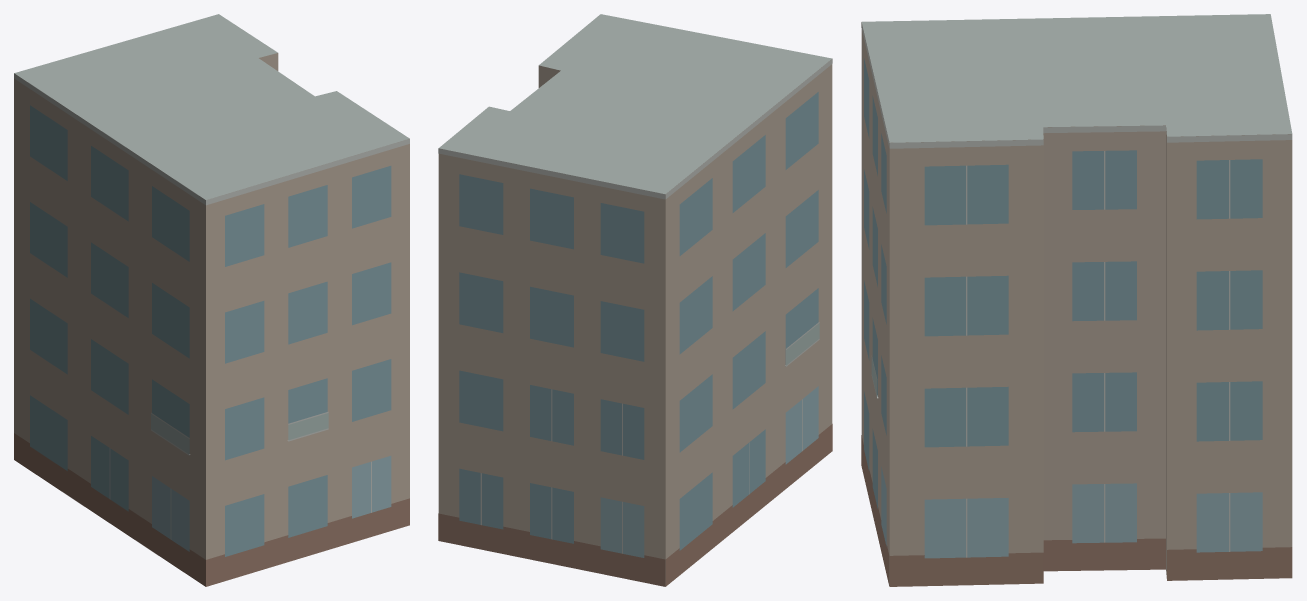
Rendered from survey-upis-33047063.glb.
3 views of the same model, side by side, from view 1: azimuth 30°, elevation 25°; view 2: azimuth 150°, elevation 25°; view 3: azimuth 270°, elevation 25° (orthographic). The views are drawn at different scales.
Parts seen in each view (by area): view 1: survey-upis-33047063.tmp; view 2: survey-upis-33047063.tmp; view 3: survey-upis-33047063.tmp.
Boxes of the visible parts, box(x1,y1,x2,y2) form: survey-upis-33047063.tmp: box(14, 14, 409, 586); survey-upis-33047063.tmp: box(438, 14, 832, 586); survey-upis-33047063.tmp: box(861, 14, 1292, 586).
Bounding box in the file's own units: 11.27 × 18.1 × 15.93.
